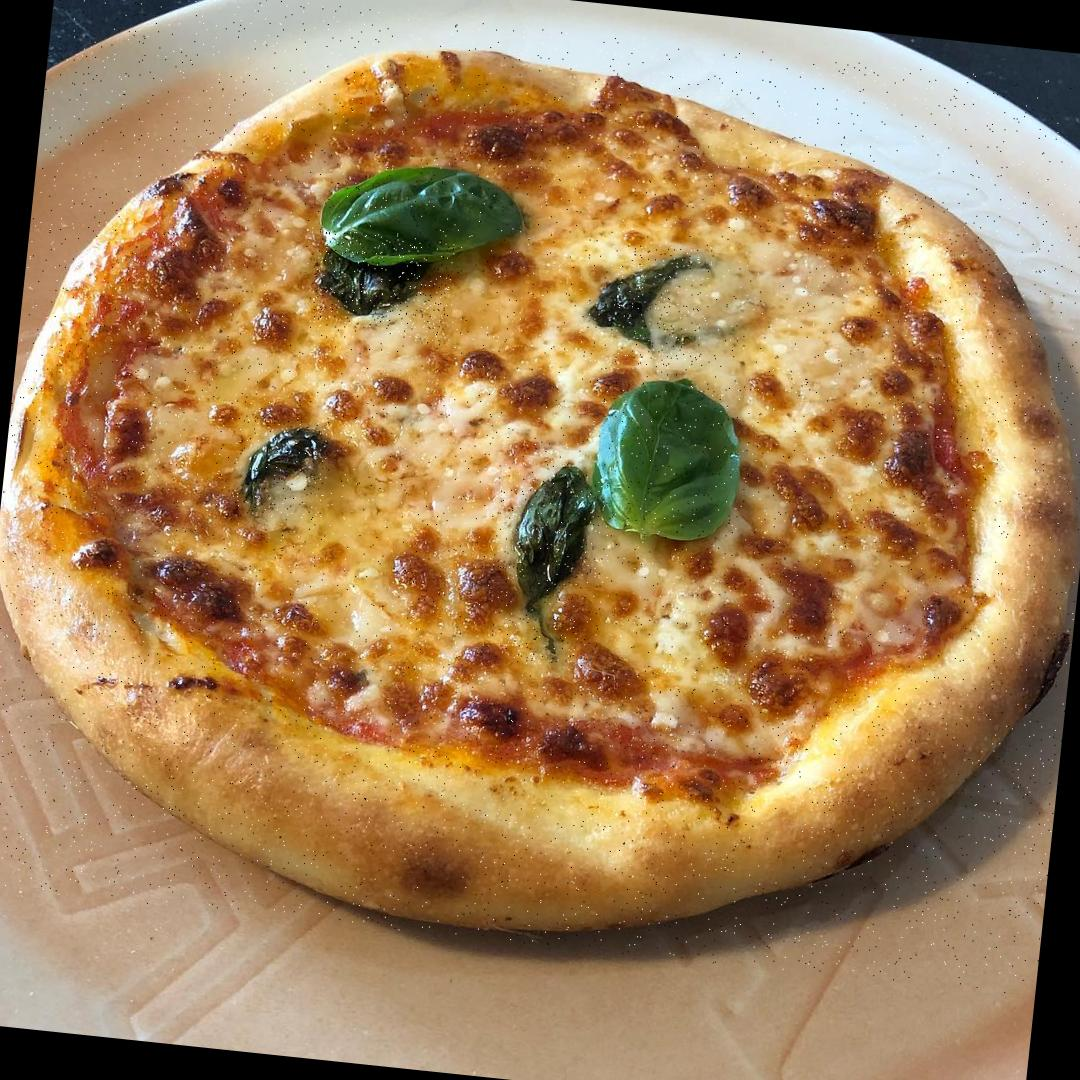Basil: (594, 365, 761, 572), (483, 454, 621, 670), (304, 148, 534, 274), (582, 239, 714, 373), (309, 228, 456, 344), (230, 411, 332, 522)
Pizza: (0, 0, 1080, 997)
